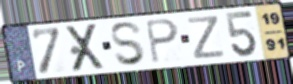5: (223, 9, 259, 59)
7: (32, 25, 62, 76)
P: (144, 18, 181, 66)
S: (109, 20, 148, 68)
X: (64, 22, 107, 74)
Z: (186, 14, 227, 62)
